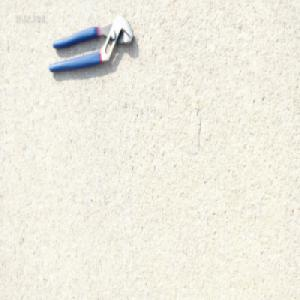Pliers: (48, 14, 135, 74)
